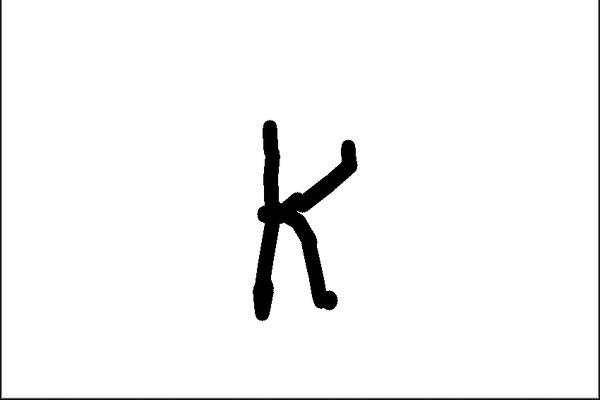K: (243, 111, 364, 325)
